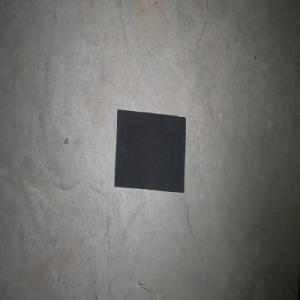PaintChip: (114, 108, 186, 192)
